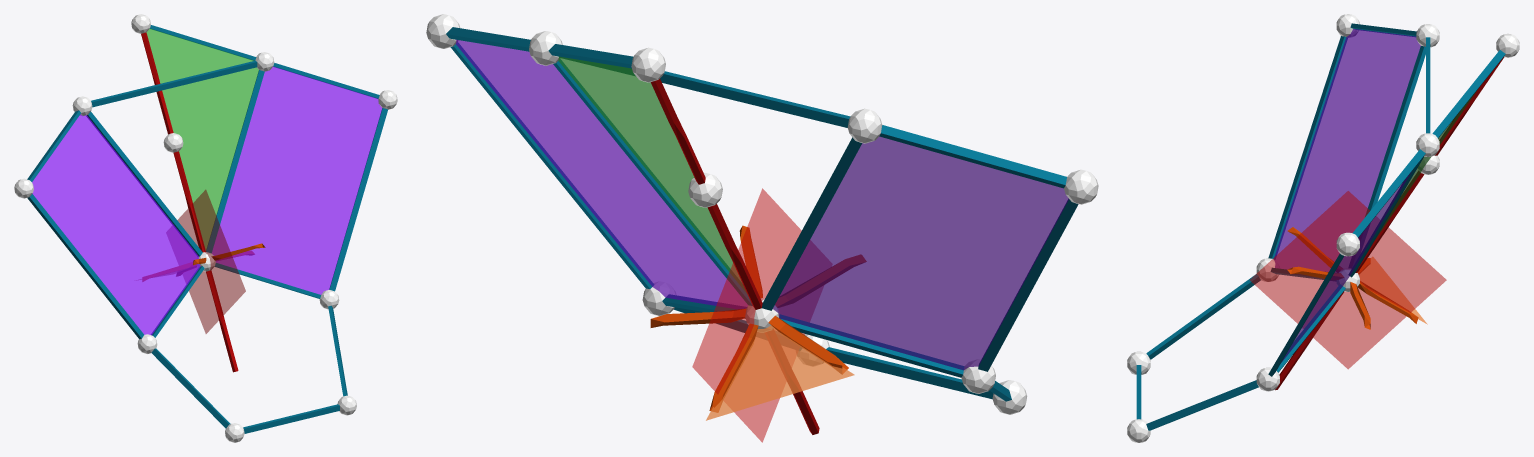
The model's file is dome-jig-angles.dae.
3 renders of one model, left to right at view 1: azimuth 30°, elevation 25°; view 2: azimuth 150°, elevation 25°; view 3: azimuth 270°, elevation 25°, orthographic. The views are drawn at different scales.
Parts seen in each view (by area): view 1: instance15, instance33, instance20, instance11, instance14, instance2, instance4, instance21, instance13, instance9, instance17, instance16 (+8 smaller); view 2: instance33, instance15, instance11, instance20, instance18, instance4, instance13, instance2, instance29, instance21, instance14, instance6 (+21 smaller); view 3: instance33, instance11, instance15, instance14, instance21, instance9, instance18, instance32, instance27, instance26, instance4, instance3 (+19 smaller).
Part boxes in pixels (x1=…): instance15: x1=212, y1=66, x2=382, y2=294; instance33: x1=32, y1=114, x2=200, y2=335; instance20: x1=146, y1=28, x2=258, y2=249; instance11: x1=167, y1=189, x2=245, y2=333; instance14: x1=27, y1=194, x2=143, y2=339; instance2: x1=91, y1=60, x2=257, y2=107; instance4: x1=329, y1=108, x2=387, y2=291; instance21: x1=86, y1=111, x2=202, y2=256; instance13: x1=206, y1=70, x2=264, y2=253; instance9: x1=151, y1=348, x2=230, y2=428; instance17: x1=243, y1=404, x2=339, y2=433; instance16: x1=206, y1=270, x2=238, y2=372; instance33: x1=773, y1=136, x2=1068, y2=370; instance15: x1=456, y1=39, x2=747, y2=309; instance11: x1=692, y1=188, x2=831, y2=442; instance20: x1=558, y1=56, x2=746, y2=292; instance18: x1=706, y1=325, x2=854, y2=420; instance4: x1=450, y1=42, x2=653, y2=288; instance13: x1=553, y1=59, x2=752, y2=305; instance2: x1=559, y1=57, x2=850, y2=127; instance29: x1=879, y1=125, x2=1066, y2=188; instance21: x1=762, y1=137, x2=862, y2=310; instance14: x1=978, y1=199, x2=1078, y2=371; instance6: x1=779, y1=314, x2=963, y2=377; instance33: x1=1274, y1=29, x2=1420, y2=271; instance11: x1=1250, y1=191, x2=1446, y2=369; instance15: x1=1281, y1=171, x2=1411, y2=362; instance14: x1=1268, y1=36, x2=1347, y2=258; instance21: x1=1349, y1=46, x2=1425, y2=267; instance9: x1=1146, y1=274, x2=1260, y2=359; instance18: x1=1359, y1=257, x2=1427, y2=324; instance32: x1=1146, y1=380, x2=1258, y2=430; instance27: x1=1432, y1=50, x2=1505, y2=138; instance26: x1=1352, y1=149, x2=1425, y2=237; instance4: x1=1268, y1=254, x2=1343, y2=376; instance3: x1=1276, y1=284, x2=1345, y2=372.
Bounding box in the file's own units: 46.36 × 35.27 × 33.65.
